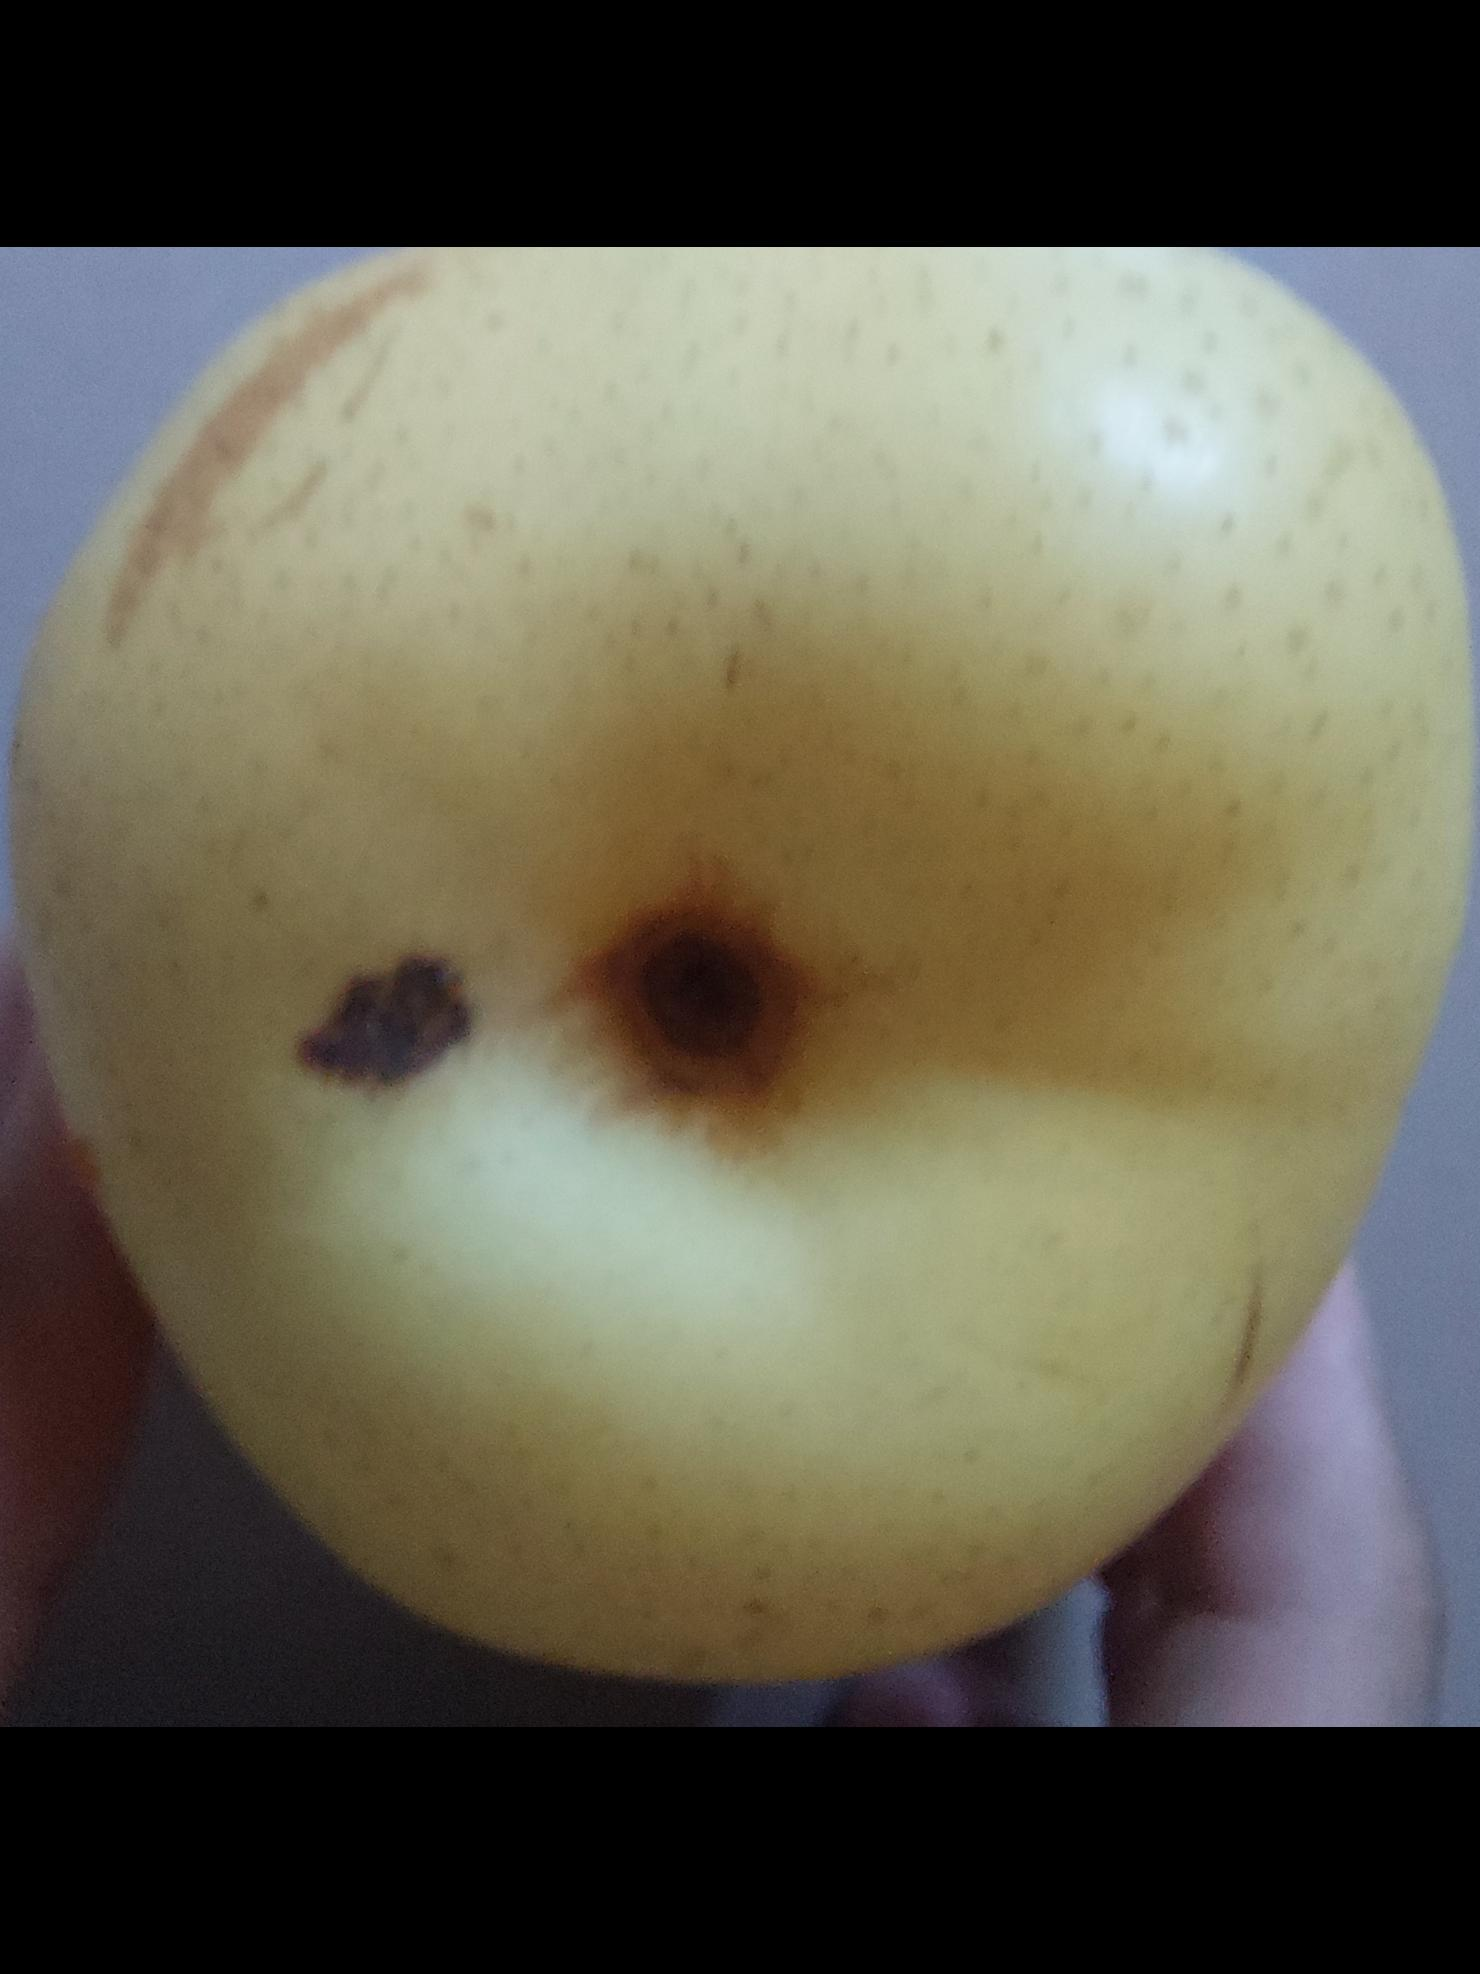Good Pear: (6, 247, 1480, 1696)
